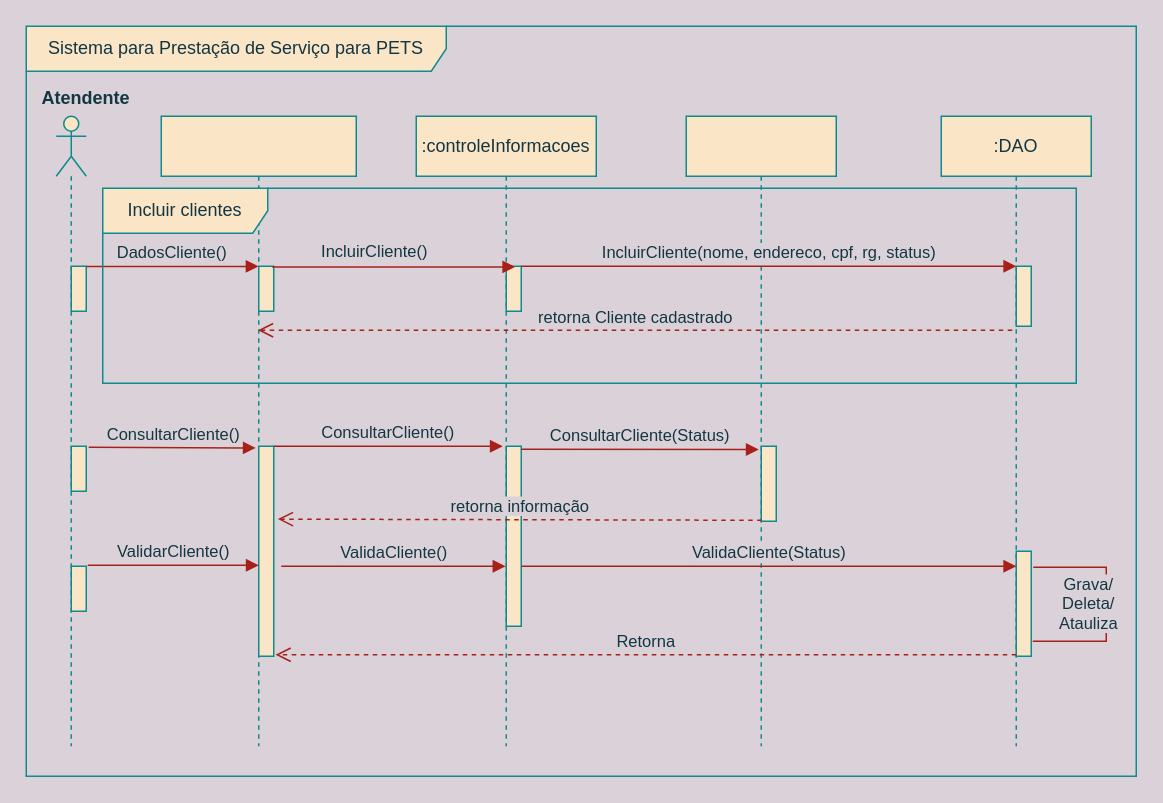
Image size: 1163x803. Some labels were removed from this diagram. The centre of each missing label's shape, as x and y in pixels:
":Cliente" belongs at point (760, 430).
":formularioDeConsulta" belongs at point (258, 430).
